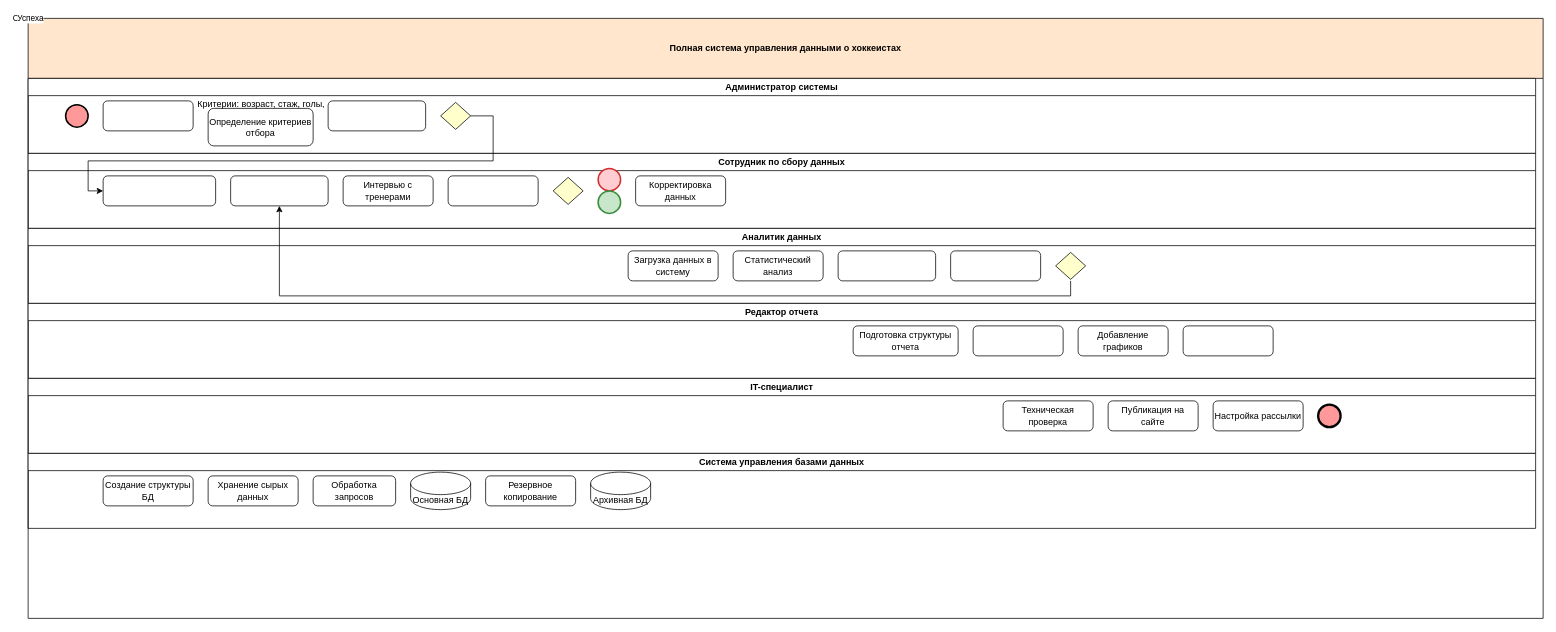
Some shapes in this 1556 by 632 pixel diagram are drawn without their labels. The centre of each missing label's shape, as x and y in pixels:
Данные неполные: the point at 609,179
Данные полные: the point at 609,202
Запрос информации у клубов: the point at 279,190
Инициализация проекта: the point at 147,115
Назначение ответственных: the point at 376,115
Наполнение контентом: the point at 1017,340
Первичная проверка данных: the point at 492,190
Ранжирование игроков: the point at 995,265
Редакторская проверка: the point at 1227,340
Сбор данных из открытых источников: the point at 159,190
Сравнительная оценка: the point at 886,265
